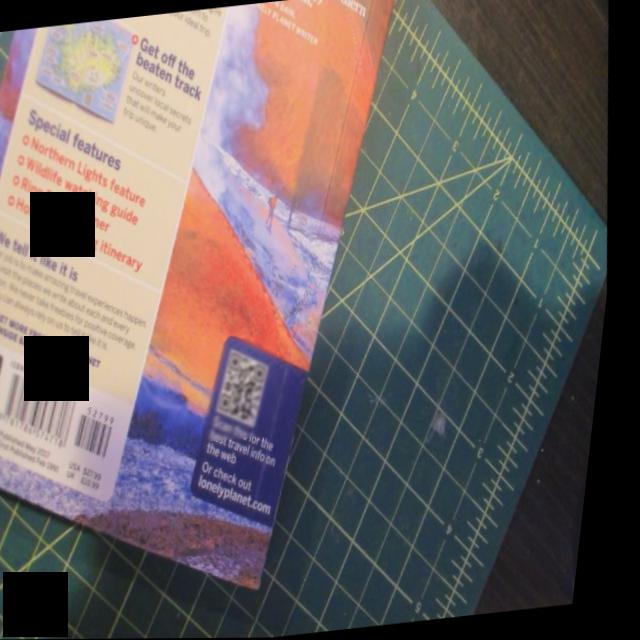QR_CODE: (202, 336, 294, 443)
